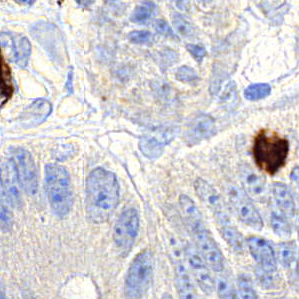Lymphocyte: (253, 128, 289, 173)
